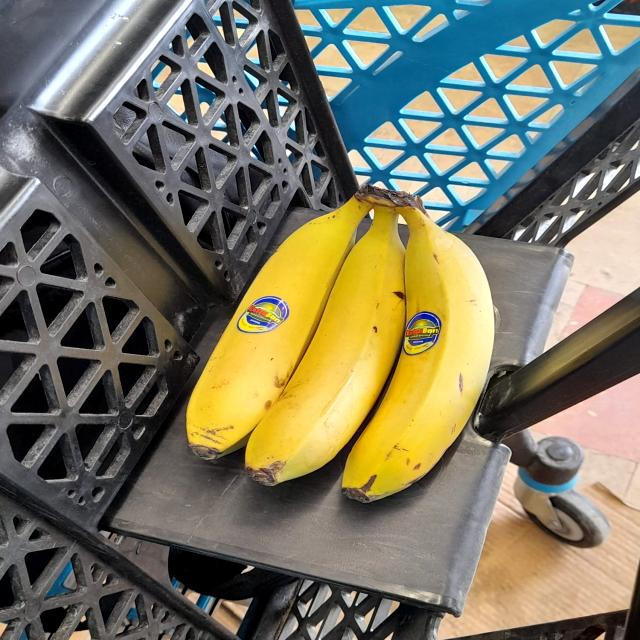banana: (176, 179, 514, 513)
